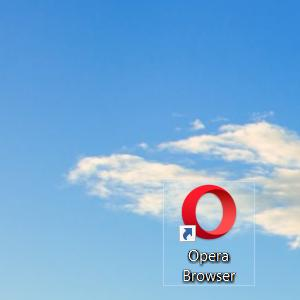opera: (179, 184, 237, 242)
